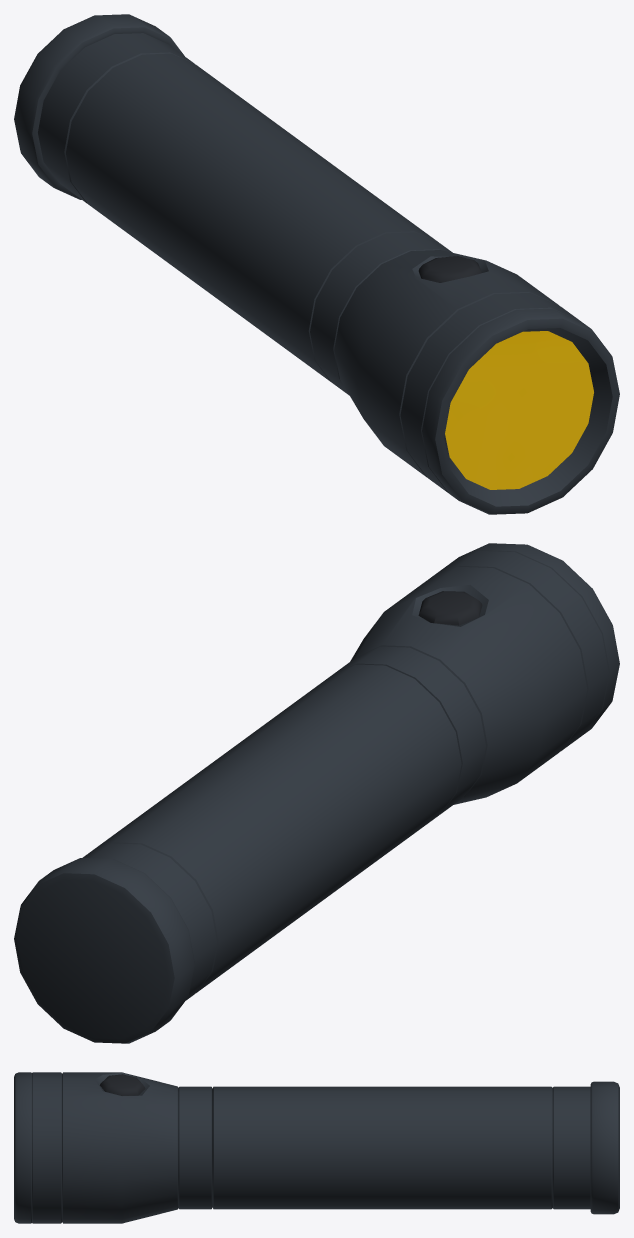
The model's file is Flashlight.fbx.
The picture shows the model from 3 angles, top to bottom: view 1: azimuth 30°, elevation 25°; view 2: azimuth 150°, elevation 25°; view 3: azimuth 270°, elevation 25°; orthographic projection. The views are drawn at different scales.
Parts seen in each view (by area): view 1: Flashlightt; view 2: Flashlightt; view 3: Flashlightt.
Boxes of the visible parts, x1,y1,x2,y2 form: Flashlightt: (14,14,619,514); Flashlightt: (14,543,619,1043); Flashlightt: (14,1072,619,1223).
Bounding box in the file's own units: 49.91 × 49.91 × 200.
